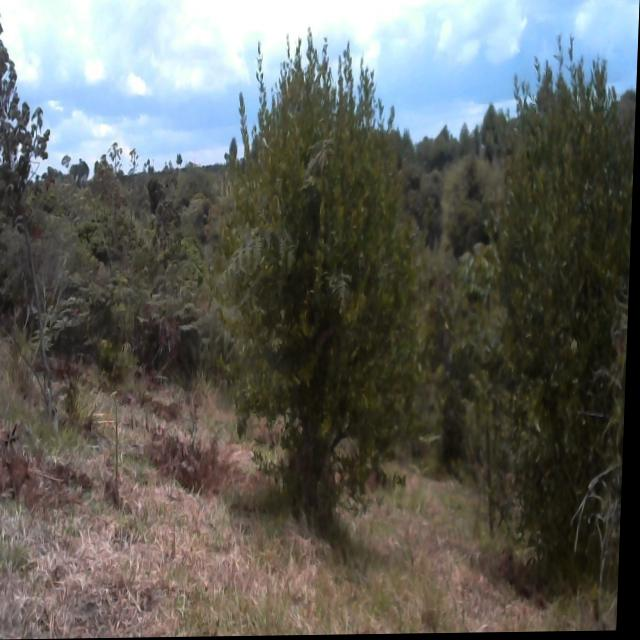Salix alba: (228, 37, 452, 543), (478, 21, 639, 579)
